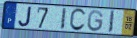7: (36, 6, 50, 29)
C: (68, 8, 87, 33)
G: (87, 9, 105, 33)
I: (107, 10, 116, 34), (59, 7, 68, 31)
J: (17, 6, 33, 28)
